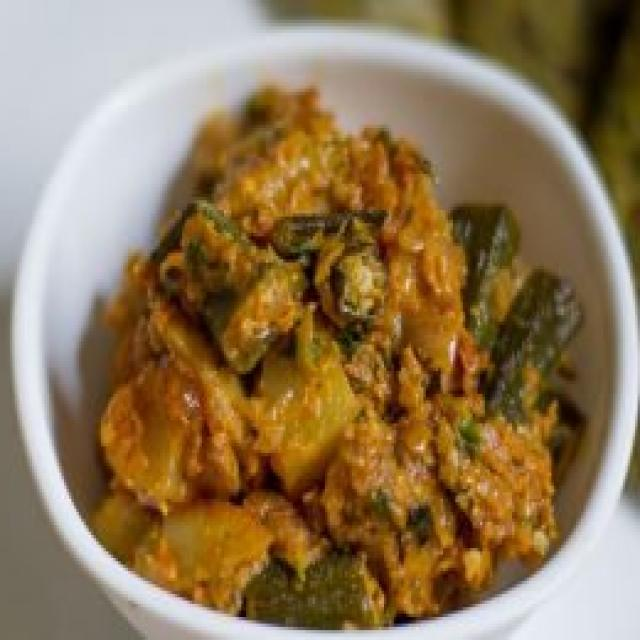Bhindi Masala: (71, 85, 590, 640)
